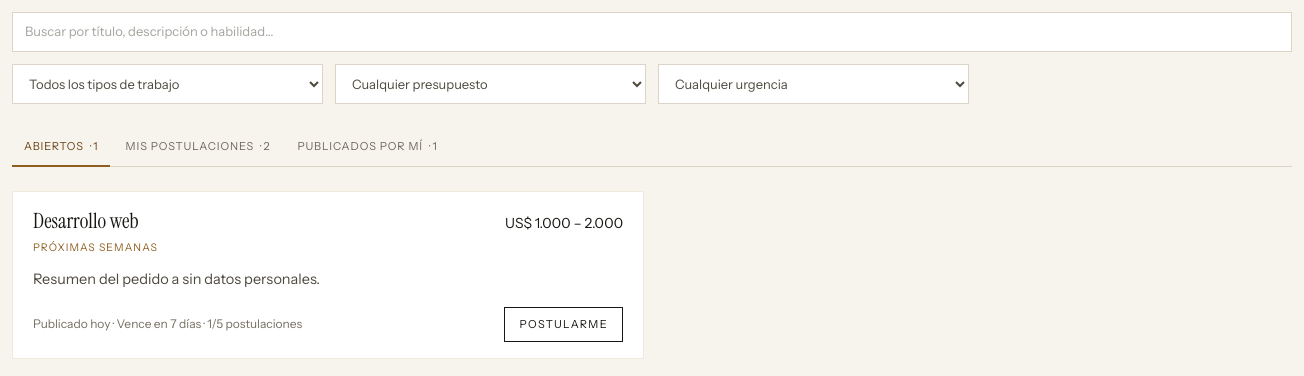
BolsaTablero › separa los abiertos, las postulaciones propias y los publicados por uno
The width and height of the screenshot is (1304, 376).
Expected: the text "Resumen del pedido a sin datos personales." is shown, [33,270,320,288]
Expected: the text "US$ 1.000 – 2.000" is shown, [505,212,623,234]
Click the tab "Mis postulaciones · 2" at (198,147), box [114,128,281,166]
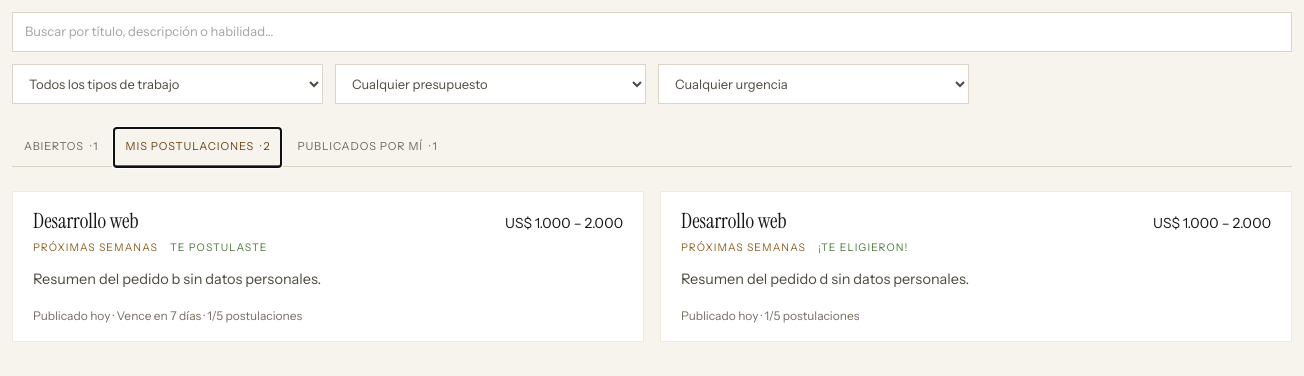
Result: the text "¡Te eligieron!" is shown at [818,240,908,256]
Click the tab "Publicados por mí · 1" at (367,147), box [285,128,449,166]
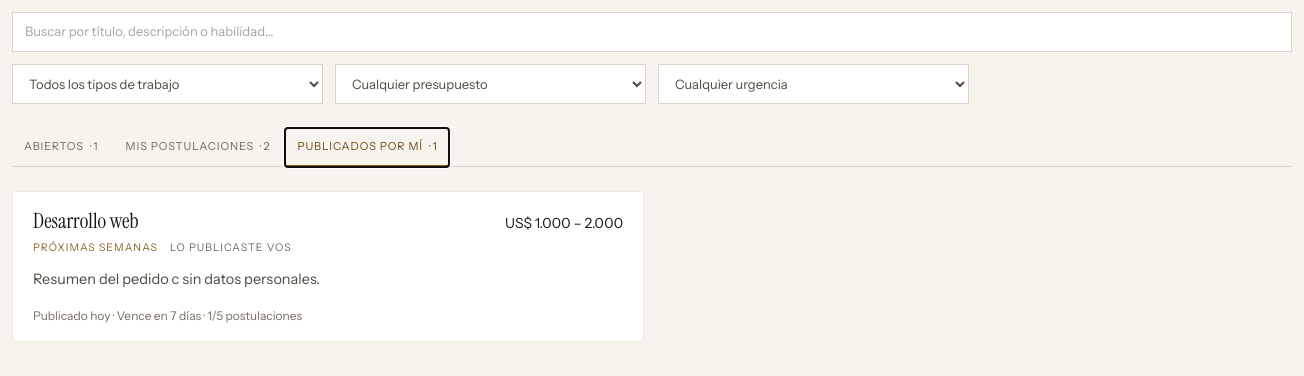
Expected: the button "Postularme" is not shown
Result: the text "Lo publicaste vos" is shown at [170,240,292,256]
